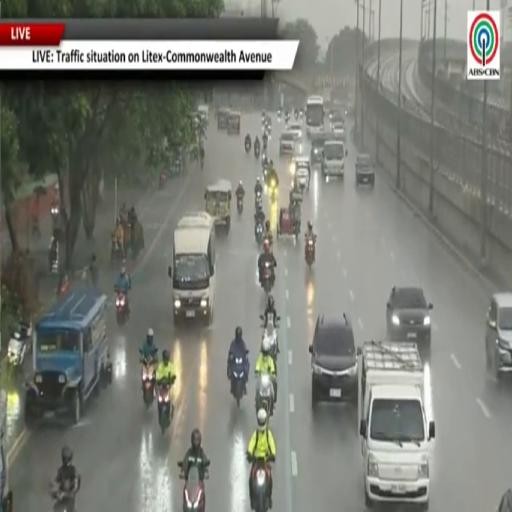bus: (168, 212, 215, 324), (306, 95, 324, 137)
car: (309, 314, 357, 408), (387, 286, 432, 348), (485, 292, 512, 379), (321, 139, 347, 182), (310, 132, 331, 166), (355, 154, 374, 187), (279, 132, 296, 155), (332, 122, 345, 141), (288, 123, 302, 140), (329, 108, 344, 123)
jeepney: (25, 287, 112, 427), (205, 180, 232, 232), (291, 155, 310, 191), (227, 111, 241, 135), (216, 108, 230, 130)
motorcycle: (178, 462, 205, 511), (248, 454, 271, 511), (8, 323, 32, 367), (262, 314, 280, 367), (230, 357, 248, 407), (158, 379, 173, 435), (140, 358, 156, 408), (255, 374, 273, 418), (51, 483, 76, 511), (48, 237, 59, 274), (111, 234, 124, 265), (261, 262, 273, 294), (116, 291, 127, 325), (305, 237, 315, 267), (0, 491, 13, 511), (267, 179, 277, 201), (255, 221, 263, 245), (51, 204, 59, 225), (255, 191, 262, 211), (159, 172, 167, 189), (237, 196, 243, 214), (245, 138, 251, 154), (262, 134, 267, 152), (254, 143, 260, 157), (285, 112, 290, 124), (277, 109, 282, 120), (299, 109, 303, 120), (262, 114, 266, 123), (295, 110, 298, 120)
truck: (358, 341, 435, 509), (0, 390, 12, 511)
